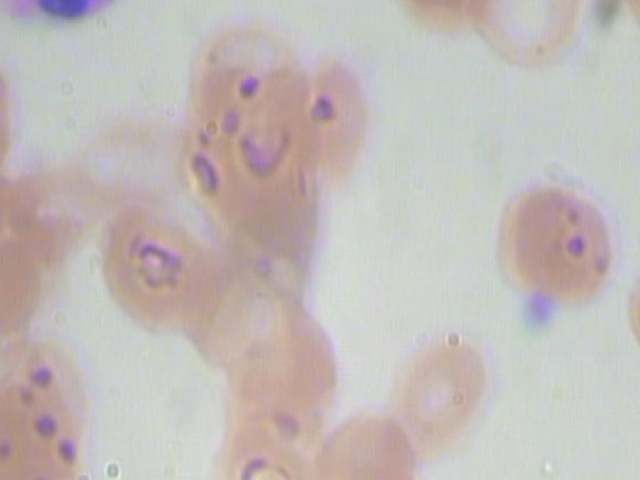Platelets: (512, 288, 558, 338)
RBC: (482, 168, 634, 314), (99, 197, 221, 334), (376, 327, 498, 463), (230, 292, 349, 413), (0, 377, 100, 480), (301, 52, 376, 183), (307, 407, 429, 480), (198, 407, 320, 480), (468, 0, 590, 70), (381, 0, 504, 37), (618, 260, 640, 391)
WBC: (0, 0, 133, 41)
